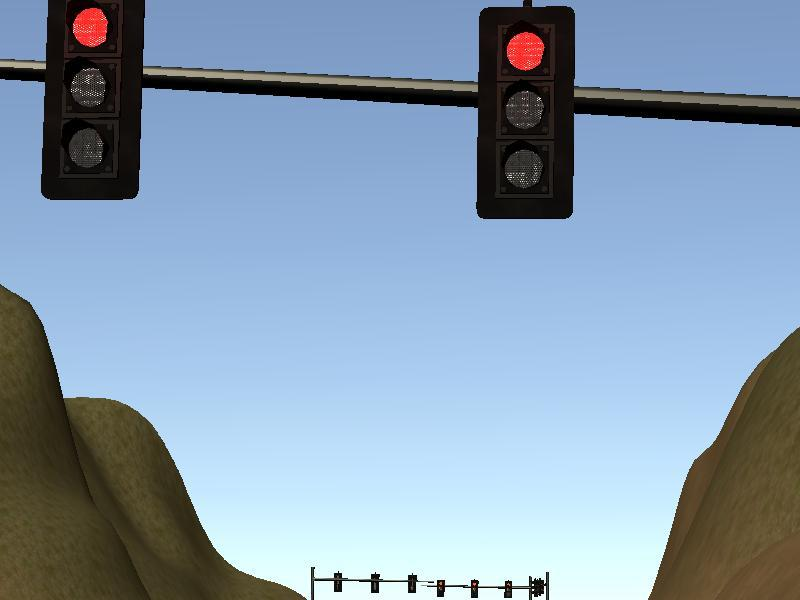Red: (482, 12, 570, 212), (48, 1, 136, 194)
